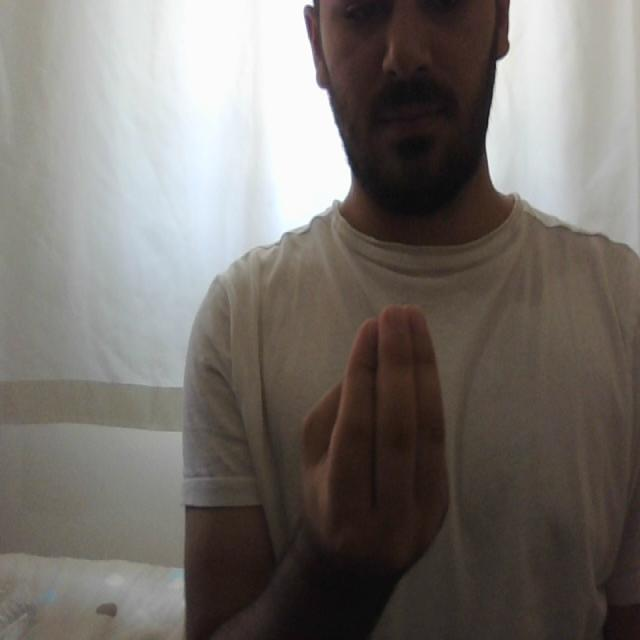iyi: (291, 300, 464, 569)
